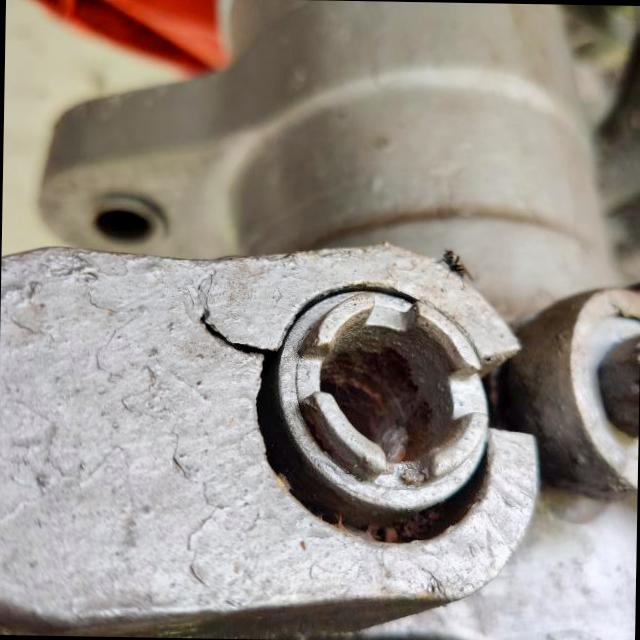crack: (181, 288, 289, 375)
